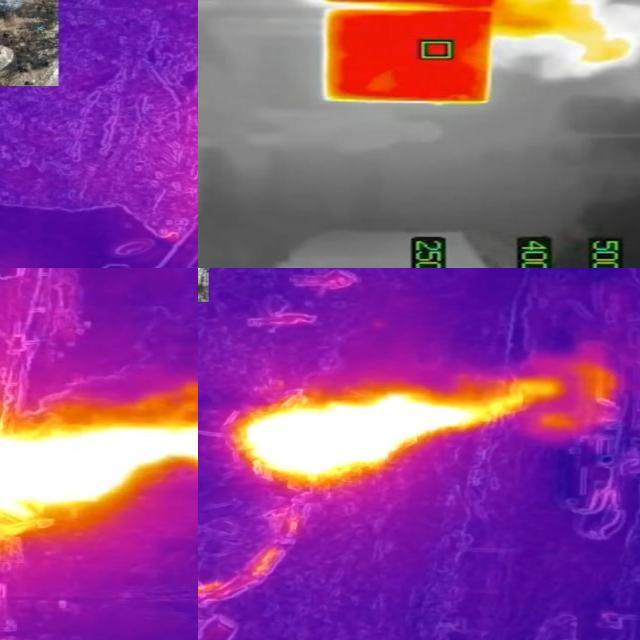fire: (226, 379, 564, 489), (1, 407, 199, 545), (483, 1, 628, 62)
